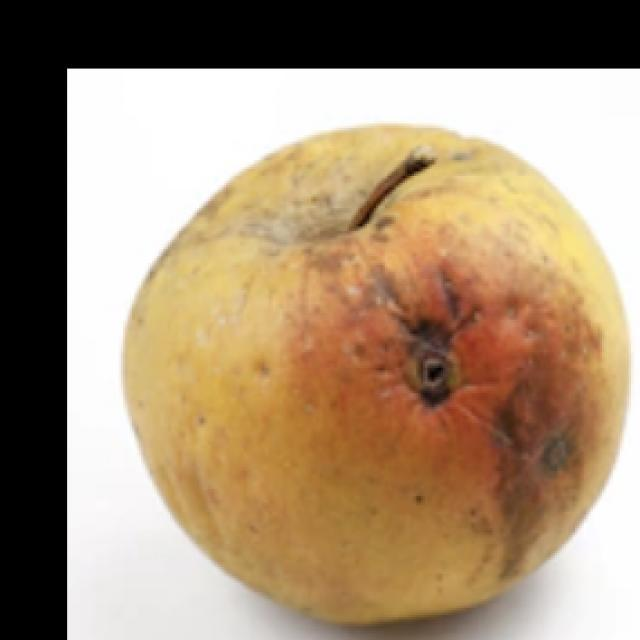Rotten: (109, 121, 628, 640)
